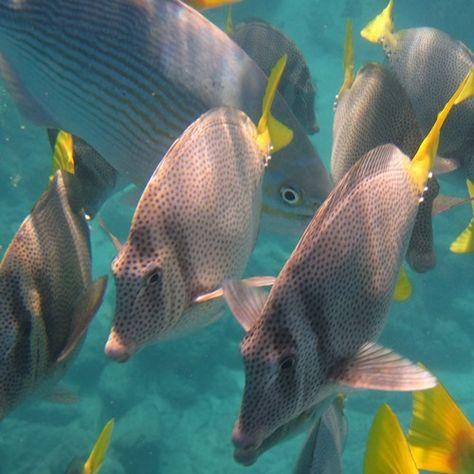fish: (230, 68, 474, 467), (0, 0, 336, 242), (105, 47, 288, 360), (0, 129, 109, 420), (332, 17, 437, 277), (357, 0, 474, 187), (222, 4, 319, 134), (406, 361, 474, 474), (293, 391, 348, 474), (360, 398, 418, 474)
